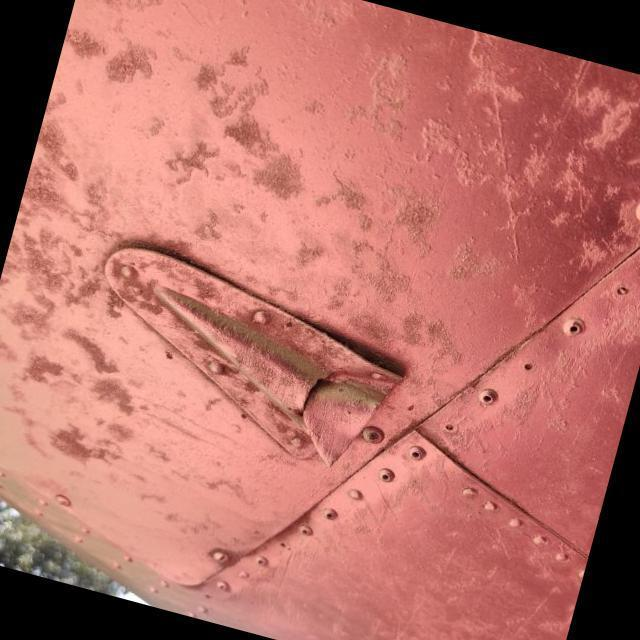Rupture: (278, 349, 351, 438)
